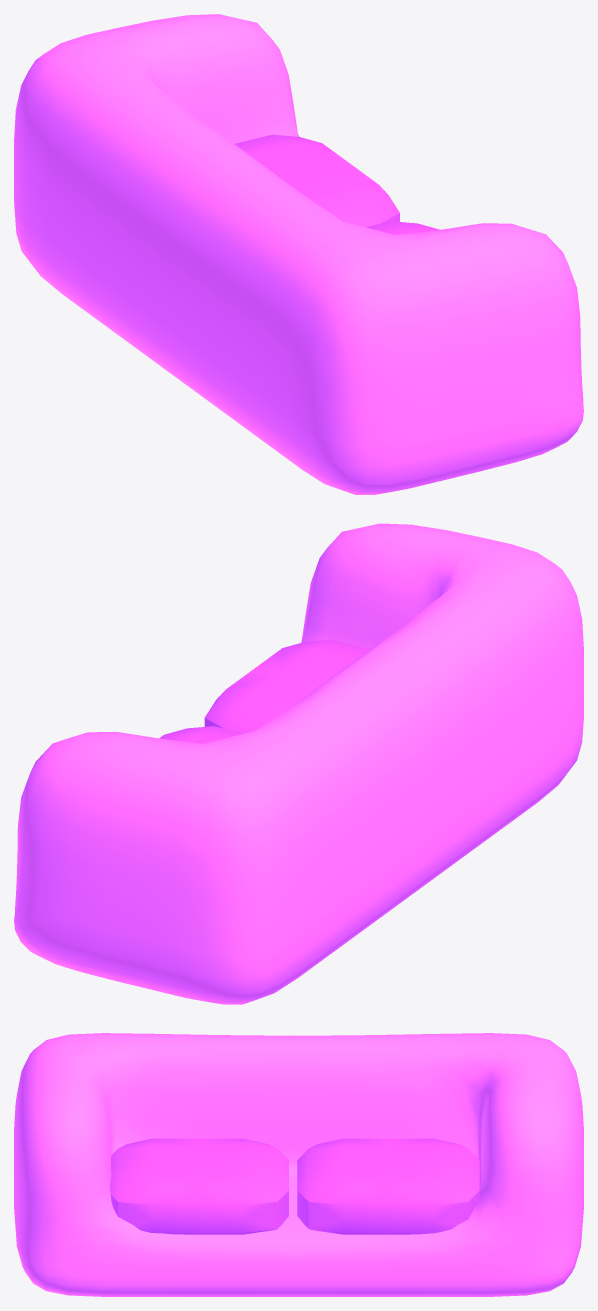
Rendered from Sofa.fbx.
3 renders of one model, top to bottom at view 1: azimuth 30°, elevation 25°; view 2: azimuth 150°, elevation 25°; view 3: azimuth 270°, elevation 25°, orthographic. The views are drawn at different scales.
Parts seen in each view (by area): view 1: Sofa; view 2: Sofa; view 3: Sofa.
Part boxes in pixels (bbox=[...]): Sofa: bbox=[14, 14, 583, 494]; Sofa: bbox=[14, 523, 583, 1004]; Sofa: bbox=[14, 1033, 583, 1296].
Bounding box in the file's own units: 186 × 158 × 426.
